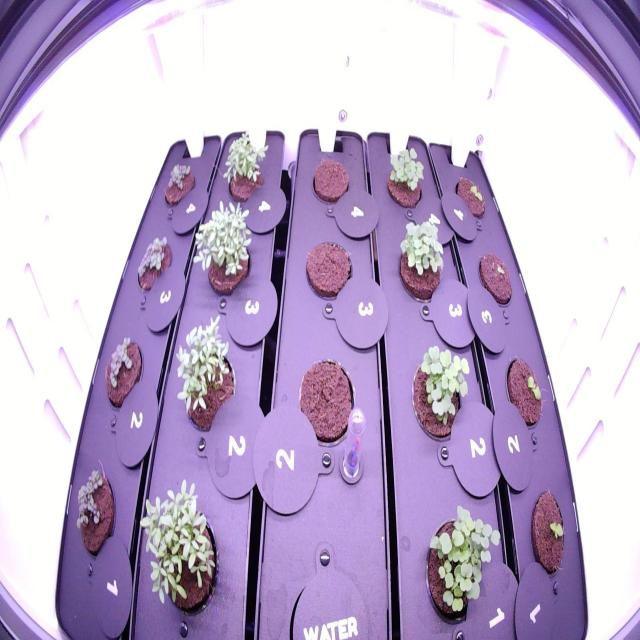germination: (137, 475, 228, 626), (420, 499, 504, 632), (169, 308, 239, 437), (404, 336, 474, 452), (190, 195, 256, 302), (393, 207, 448, 312), (70, 463, 122, 565), (219, 117, 273, 205), (527, 480, 568, 583), (100, 331, 146, 418), (501, 348, 545, 436), (380, 141, 429, 214), (132, 227, 176, 302), (476, 246, 516, 316), (158, 154, 198, 213), (449, 171, 488, 225)
pod: (294, 352, 358, 449), (301, 234, 356, 304), (308, 153, 352, 208)
